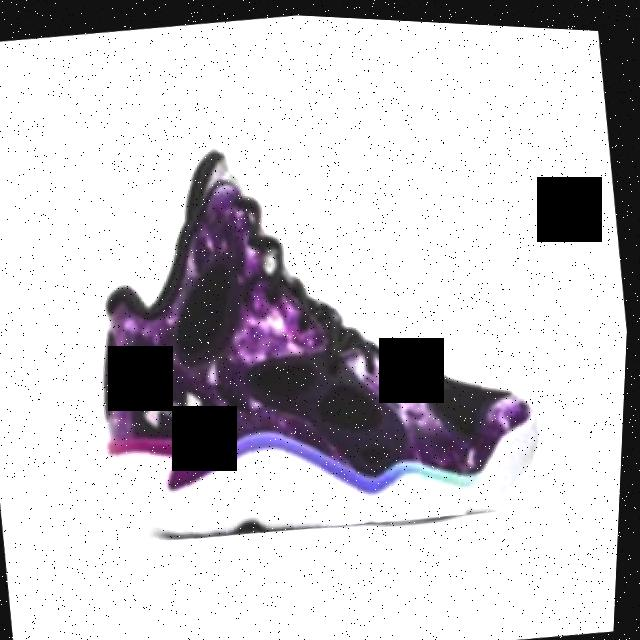shoe: (53, 91, 565, 563)
